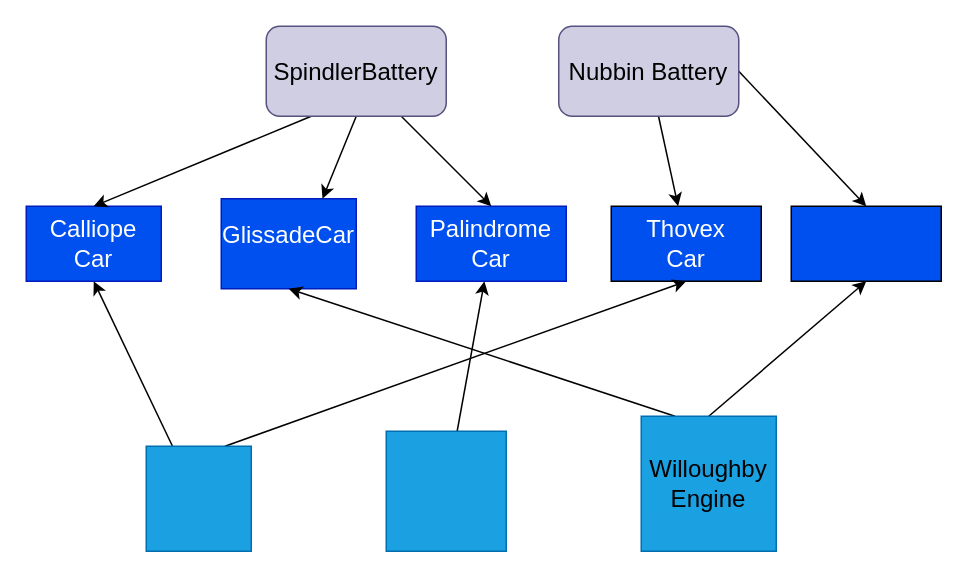
Image size: 968x578. Some labels were removed from this diagram. The centre of each missing label's shape, as x and y in pixels:
"Capulet Engine" belongs at [198,498].
"Rorschach Car" belongs at [865,243].
"Sternman Engine" belongs at [445,490].
